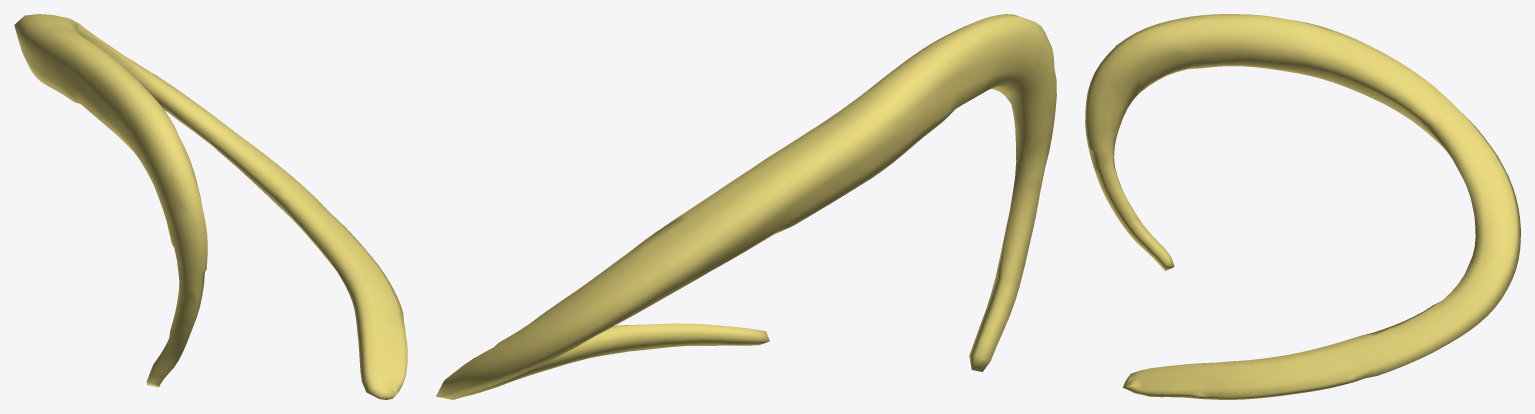
Rendered from fornix-l.glb.
The picture shows the model from 3 angles, left to right: view 1: azimuth 30°, elevation 25°; view 2: azimuth 150°, elevation 25°; view 3: azimuth 270°, elevation 25°; orthographic projection. The views are drawn at different scales.
Parts seen in each view (by area): view 1: Fornix.l; view 2: Fornix.l; view 3: Fornix.l.
Part boxes in pixels (bbox=[...]): Fornix.l: bbox=[14, 14, 407, 399]; Fornix.l: bbox=[436, 14, 1056, 399]; Fornix.l: bbox=[1085, 14, 1520, 399].
Size of the model in its own units: 0.0305 by 0.031 by 0.0432.
